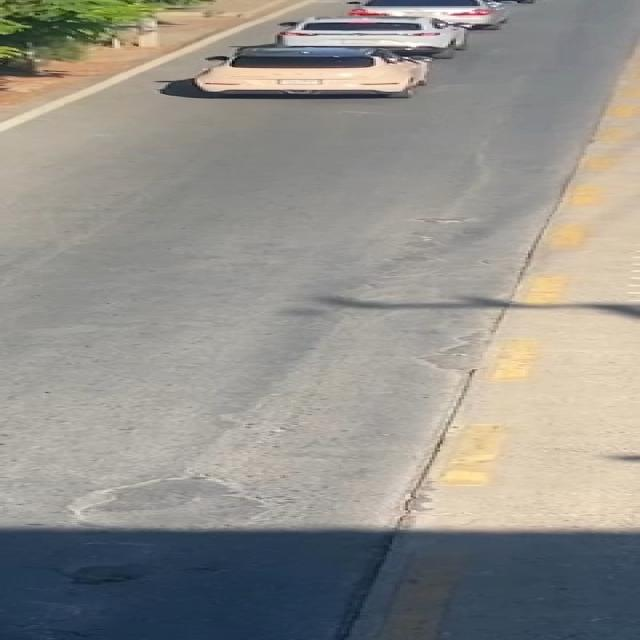car: (172, 45, 468, 104), (259, 15, 484, 55)
